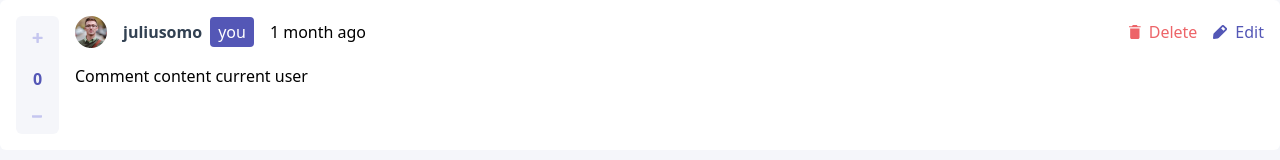
Test: CommentList › should decrements vote score when - button clicked
Click the button named "downvote" at (38, 116), box [16, 99, 59, 134]
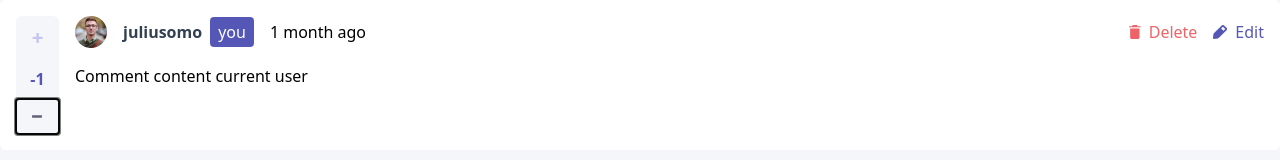
Result: the text "-1" is shown at [30, 67, 45, 91]
